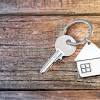key: (40, 35, 77, 73)
